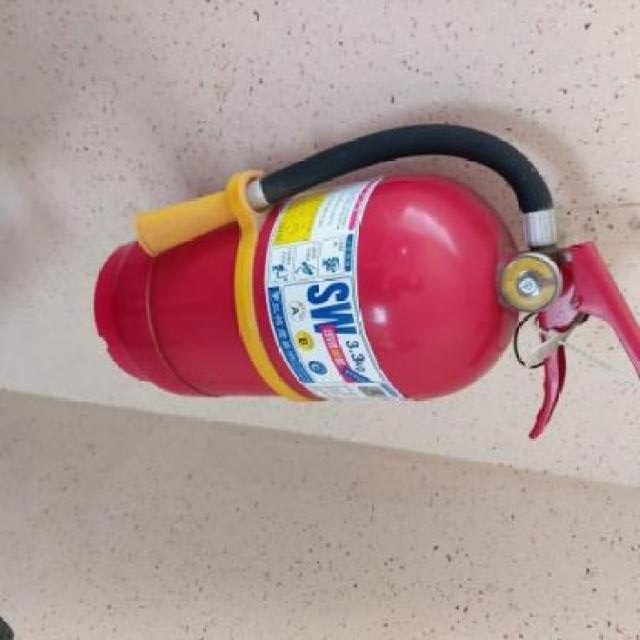fire extinguisher: (92, 122, 640, 441)
